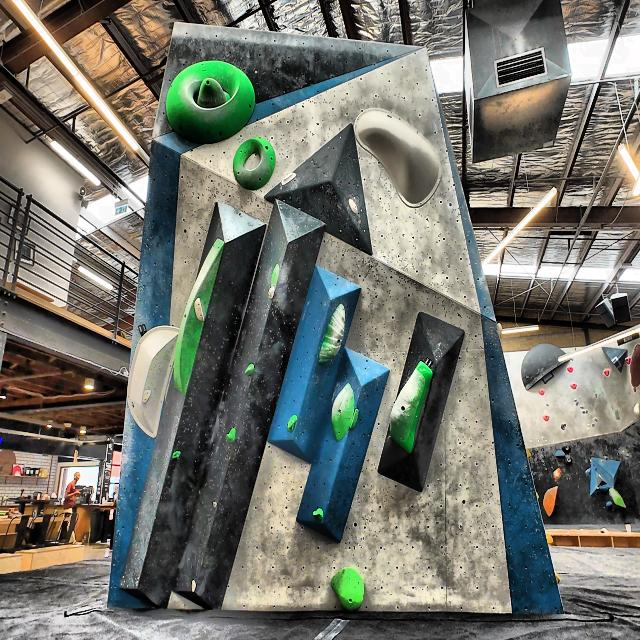Hold: (358, 105, 458, 216), (172, 231, 225, 400), (168, 57, 260, 142), (128, 325, 178, 441), (385, 362, 435, 450), (224, 136, 286, 185), (319, 292, 350, 366), (326, 563, 365, 611), (330, 380, 360, 440), (283, 162, 309, 190), (544, 486, 561, 516), (350, 190, 366, 221), (630, 345, 640, 390), (607, 487, 626, 508), (266, 259, 280, 284), (193, 295, 204, 322), (311, 508, 325, 522), (288, 413, 298, 432), (245, 362, 257, 377), (553, 568, 562, 588), (544, 530, 554, 546), (226, 427, 237, 441), (551, 466, 562, 480), (633, 402, 640, 419), (552, 450, 568, 457), (170, 448, 178, 460), (538, 386, 546, 398), (542, 412, 551, 422), (568, 384, 579, 390), (566, 365, 574, 373), (603, 370, 611, 378), (624, 355, 631, 364), (614, 408, 619, 420)
